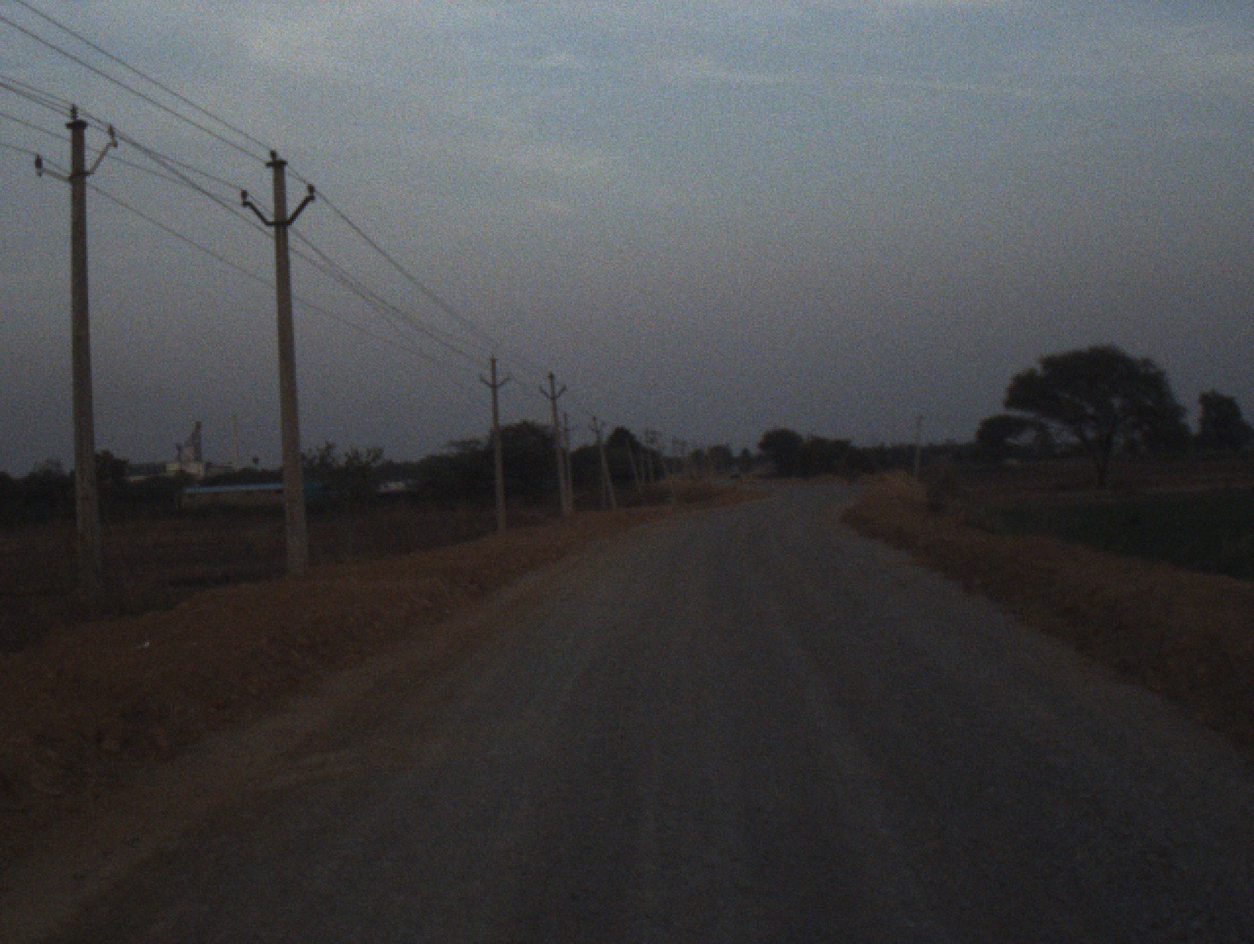car: (728, 463, 741, 477)
